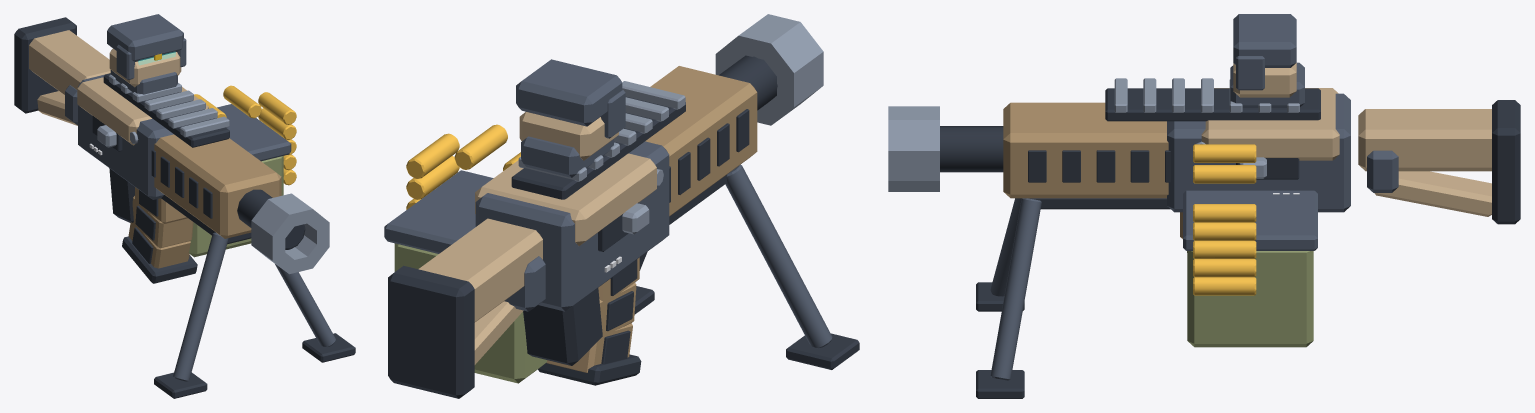
File: Military_LMG_v002.fbx
The picture shows the model from 3 angles, left to right: view 1: azimuth 30°, elevation 25°; view 2: azimuth 150°, elevation 25°; view 3: azimuth 270°, elevation 25°; orthographic projection. The views are drawn at different scales.
Parts seen in each view (by area): view 1: Military_LMG__RECEIVER_MESH, Military_LMG__BIPOD_MESH, Military_LMG__MAGAZINE_MESH; view 2: Military_LMG__RECEIVER_MESH, Military_LMG__BIPOD_MESH, Military_LMG__MAGAZINE_MESH; view 3: Military_LMG__RECEIVER_MESH, Military_LMG__BIPOD_MESH.
Part boxes in pixels (left/top/right/bottom): Military_LMG__RECEIVER_MESH: left=14, top=14, right=329, bottom=274; Military_LMG__BIPOD_MESH: left=154, top=232, right=355, bottom=398; Military_LMG__MAGAZINE_MESH: left=122, top=187, right=197, bottom=283; Military_LMG__RECEIVER_MESH: left=384, top=14, right=823, bottom=398; Military_LMG__BIPOD_MESH: left=634, top=164, right=859, bottom=369; Military_LMG__MAGAZINE_MESH: left=538, top=257, right=641, bottom=385; Military_LMG__RECEIVER_MESH: left=888, top=14, right=1520, bottom=347; Military_LMG__BIPOD_MESH: left=976, top=198, right=1041, bottom=398.
Bounding box in the file's own units: 1.04 × 1.22 × 2.2.
